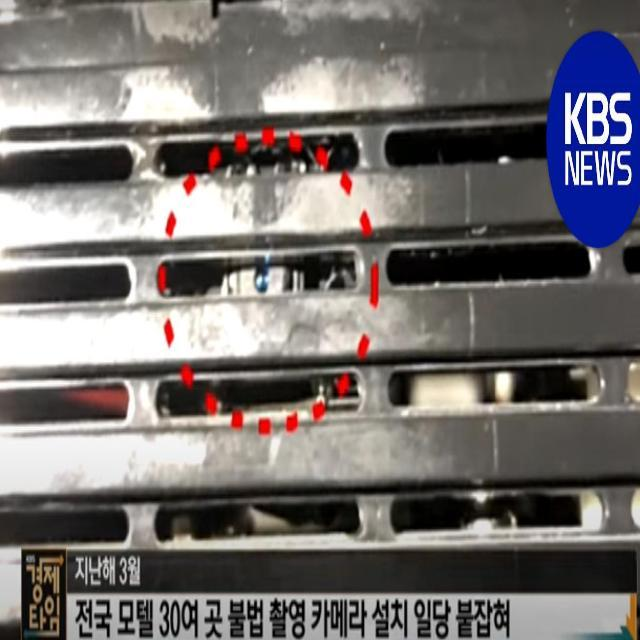hidden camera: (252, 259, 271, 296)
